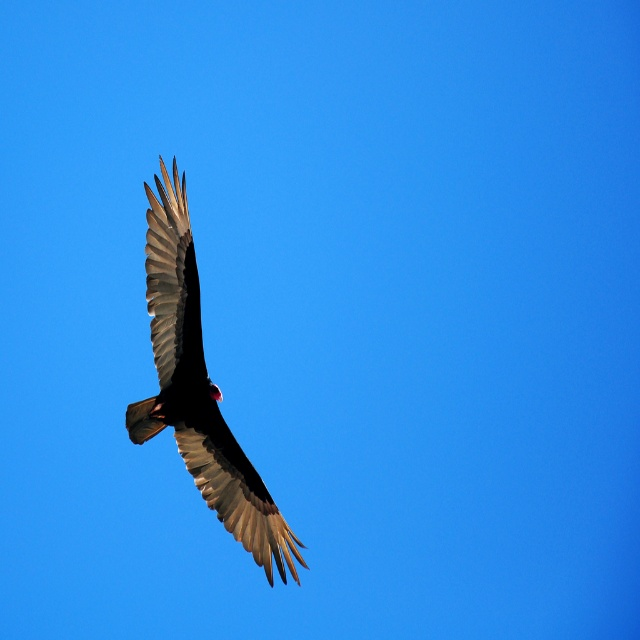Eagle: (123, 155, 316, 592)
